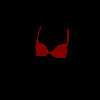reggiseno: (35, 26, 69, 58)
